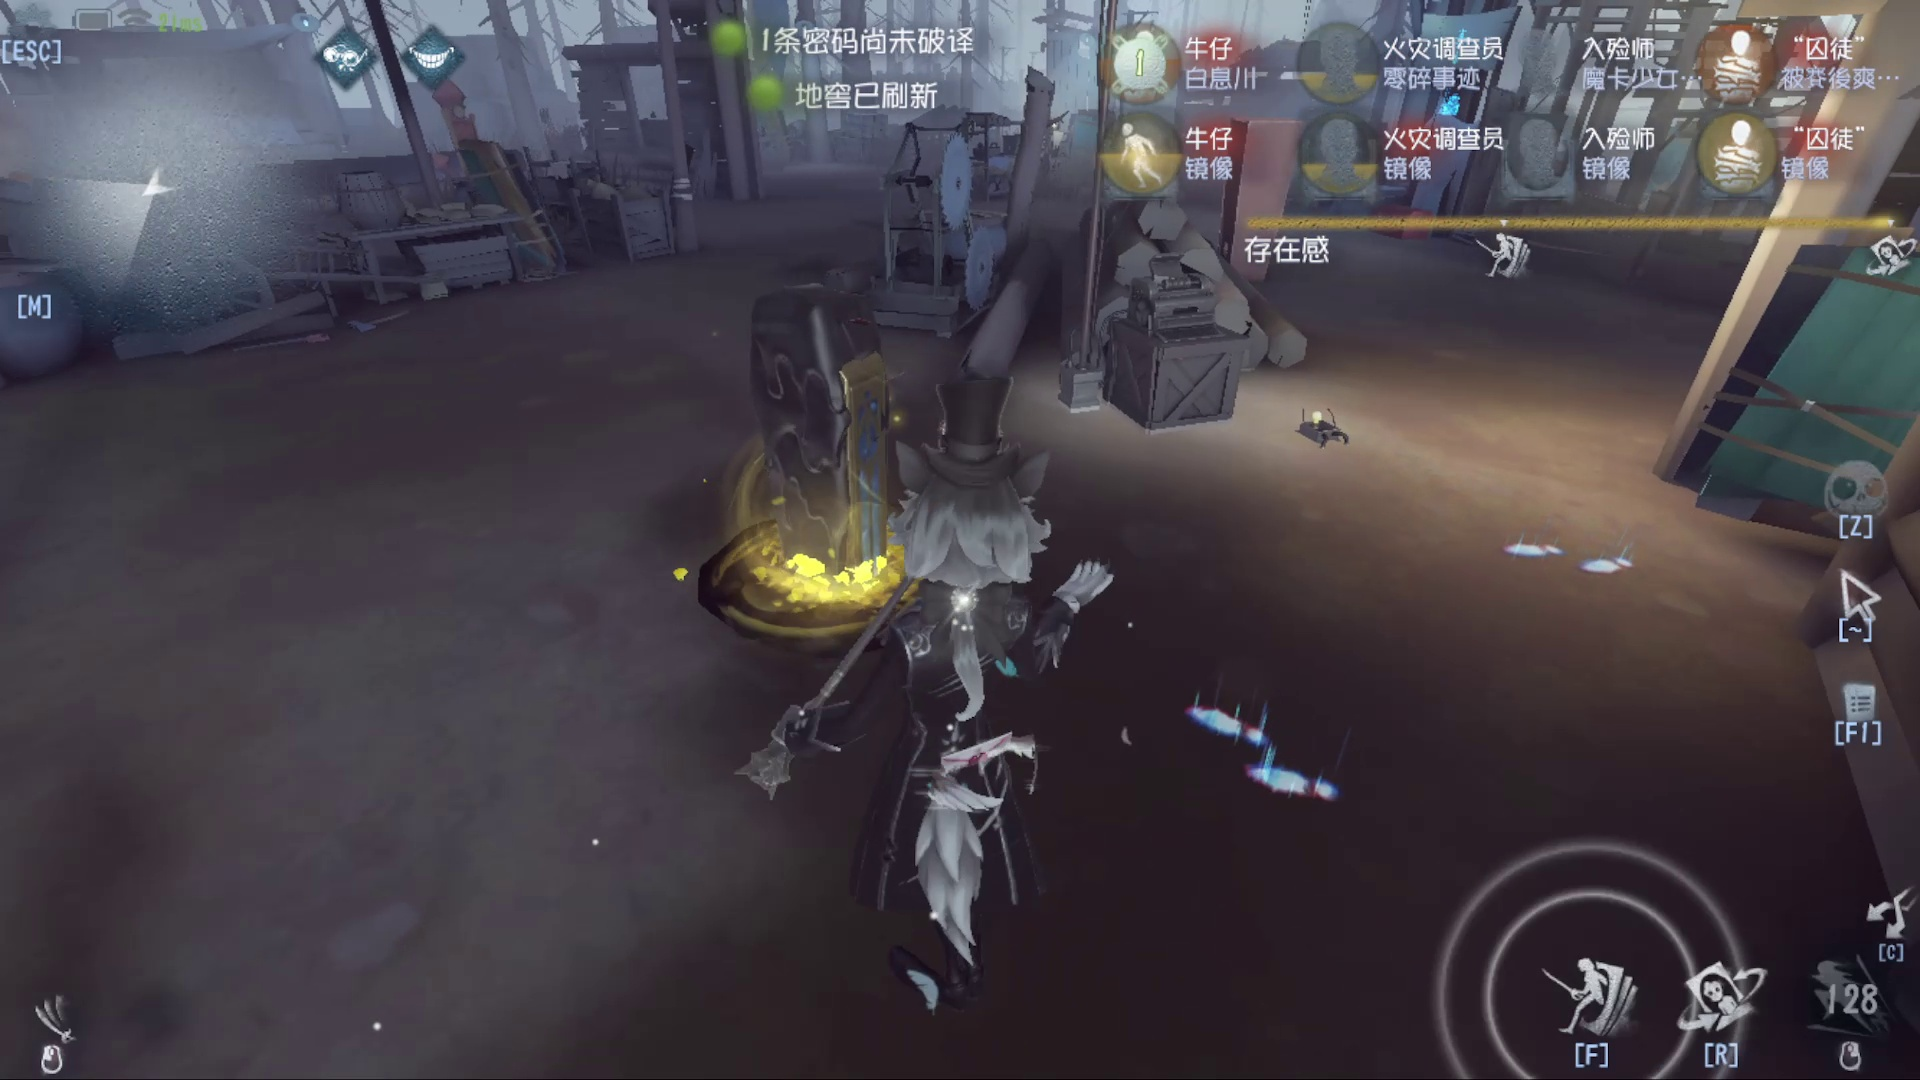密码机: (1062, 211, 1269, 469)
木板: (1668, 218, 1913, 541), (455, 132, 574, 301)
